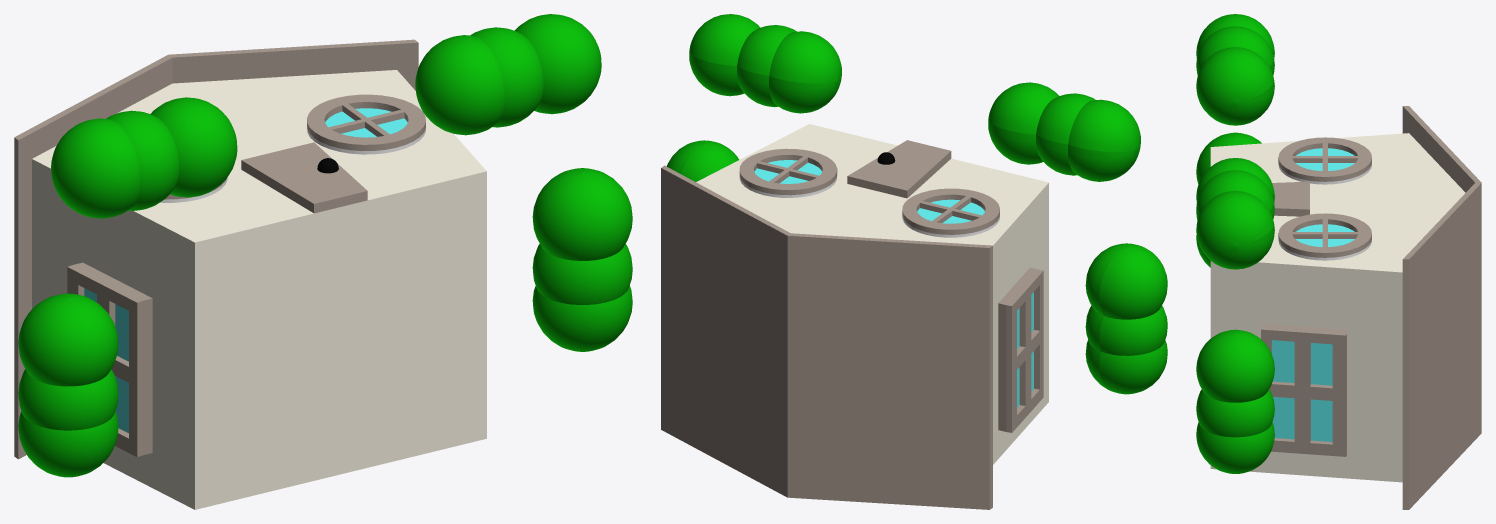
File: house_w_shrubs.fbx
The picture shows the model from 3 angles, left to right: view 1: azimuth 30°, elevation 25°; view 2: azimuth 150°, elevation 25°; view 3: azimuth 270°, elevation 25°; orthographic projection. The views are drawn at different scales.
Parts seen in each view (by area): view 1: house_w_shrubs; view 2: house_w_shrubs; view 3: house_w_shrubs.
Boxes of the visible parts, box(x1,y1,x2,y2) form: house_w_shrubs: box(14, 14, 632, 509); house_w_shrubs: box(661, 14, 1167, 509); house_w_shrubs: box(1196, 14, 1481, 509).
Size of the model in its own units: 99.91 by 66.72 by 52.36.
